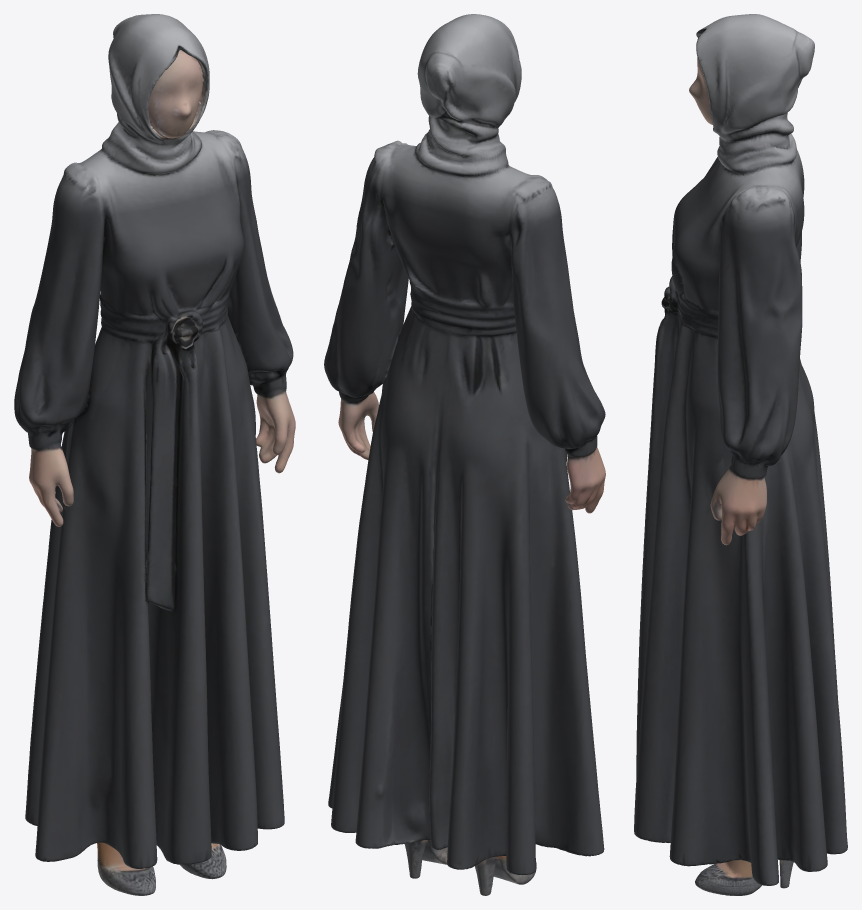
Rendered from hijab-02.glb.
3 views of the same model, side by side, from view 1: azimuth 30°, elevation 25°; view 2: azimuth 150°, elevation 25°; view 3: azimuth 270°, elevation 25° (orthographic).
Parts seen in each view (by area): view 1: tripo_node_8921b837-3f7c-4bd4-aca1-f910c4d87a3d; view 2: tripo_node_8921b837-3f7c-4bd4-aca1-f910c4d87a3d; view 3: tripo_node_8921b837-3f7c-4bd4-aca1-f910c4d87a3d.
Boxes of the visible parts, x1,y1,x2,y2 form: tripo_node_8921b837-3f7c-4bd4-aca1-f910c4d87a3d: (14, 14, 295, 895); tripo_node_8921b837-3f7c-4bd4-aca1-f910c4d87a3d: (324, 14, 605, 895); tripo_node_8921b837-3f7c-4bd4-aca1-f910c4d87a3d: (634, 14, 847, 895).
Size of the model in its own units: 0.3314 by 1 by 0.2276.
1 material, 1 textured.
